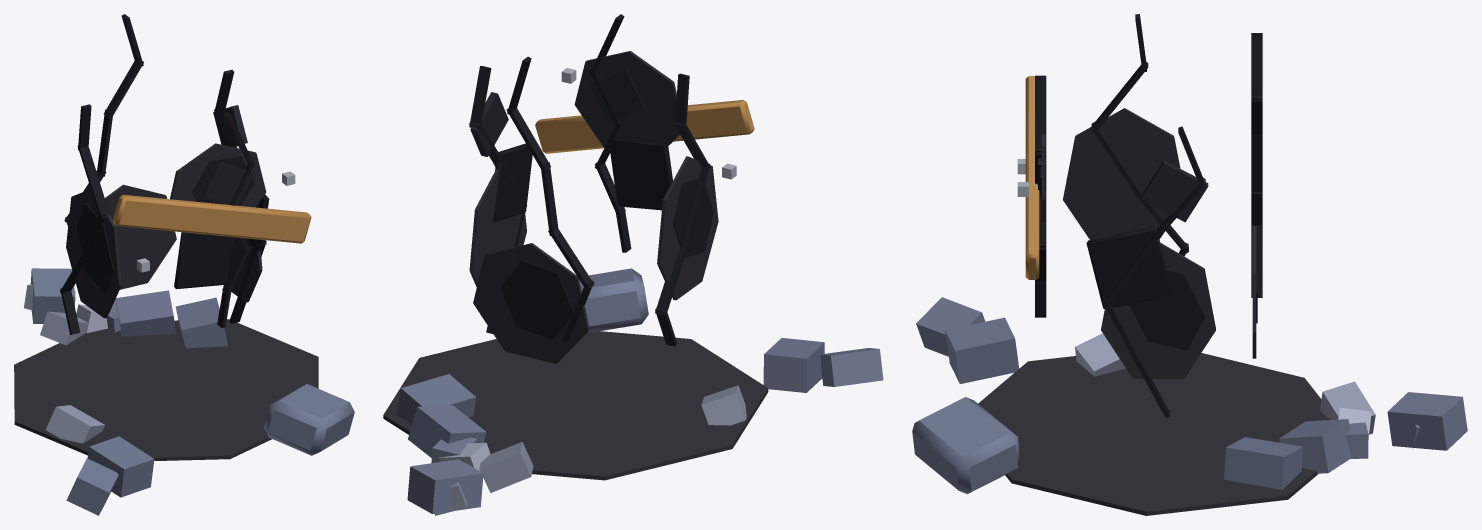
File: wall_dmg_1_2.glb
3 views of the same model, side by side, from view 1: azimuth 30°, elevation 25°; view 2: azimuth 150°, elevation 25°; view 3: azimuth 270°, elevation 25° (orthographic). The views are drawn at different scales.
Parts seen in each view (by area): view 1: body; view 2: body; view 3: body.
Part boxes in pixels (x1,y1,x2,y2): body: (14,14,354,515); body: (383,14,883,515); body: (912,14,1467,515).
Bounding box in the file's own units: 1.98 × 2.01 × 2.43.
